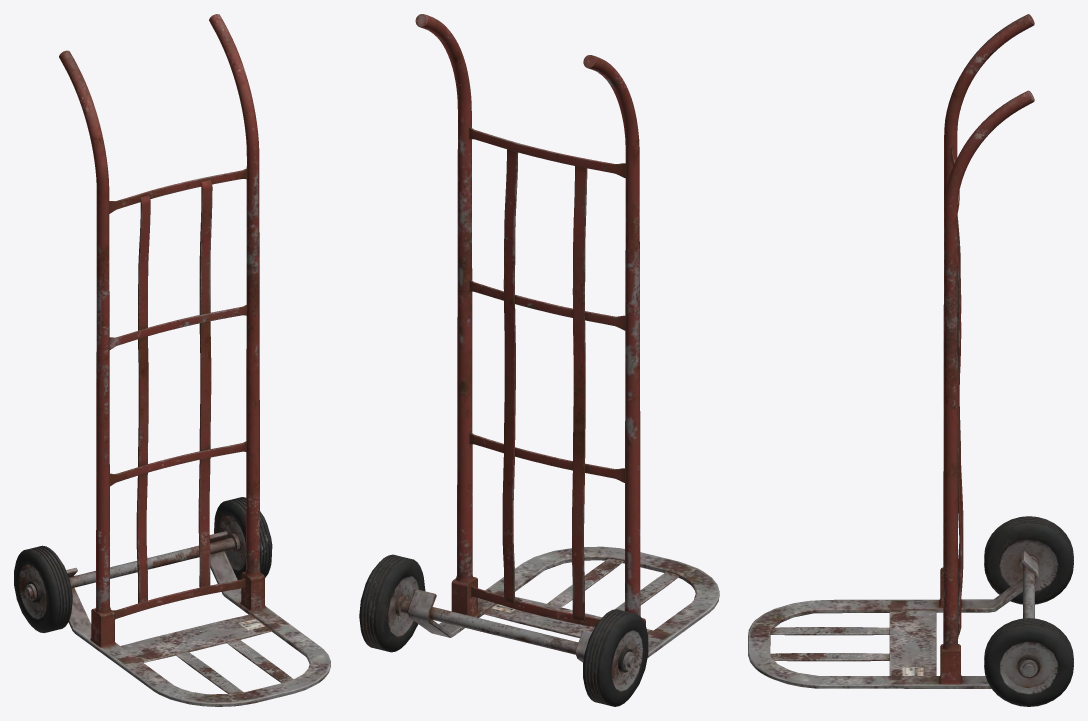
The model's file is hand_truck.aa410d5b.glb.
3 renders of one model, left to right at view 1: azimuth 30°, elevation 25°; view 2: azimuth 150°, elevation 25°; view 3: azimuth 270°, elevation 25°, orthographic. The views are drawn at different scales.
Parts seen in each view (by area): view 1: hand_truck; view 2: hand_truck; view 3: hand_truck.
Boxes of the visible parts, box(x1,y1,x2,y2) form: hand_truck: box(14, 14, 330, 706); hand_truck: box(359, 14, 719, 706); hand_truck: box(748, 14, 1073, 706).
Size of the model in its own units: 0.423 by 1 by 0.4937.
1 material, 1 textured.
